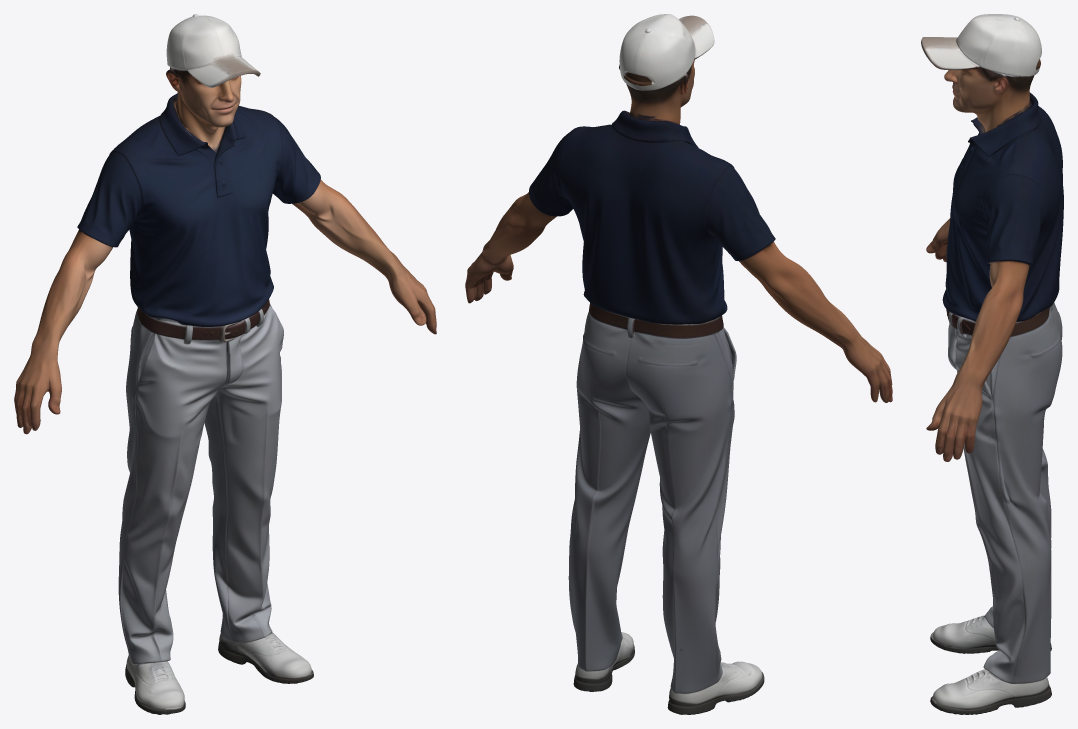
The picture shows the model from 3 angles, left to right: view 1: azimuth 30°, elevation 25°; view 2: azimuth 150°, elevation 25°; view 3: azimuth 270°, elevation 25°; orthographic projection.
Visible parts, largest first — view 1: node_0; view 2: node_0; view 3: node_0.
Part boxes in pixels (x1=…): node_0: x1=14, y1=14, x2=436, y2=714; node_0: x1=465, y1=14, x2=892, y2=714; node_0: x1=921, y1=14, x2=1063, y2=714.
Size of the model in its own units: 25058 by 38030 by 7474.
1 material, 1 textured.
